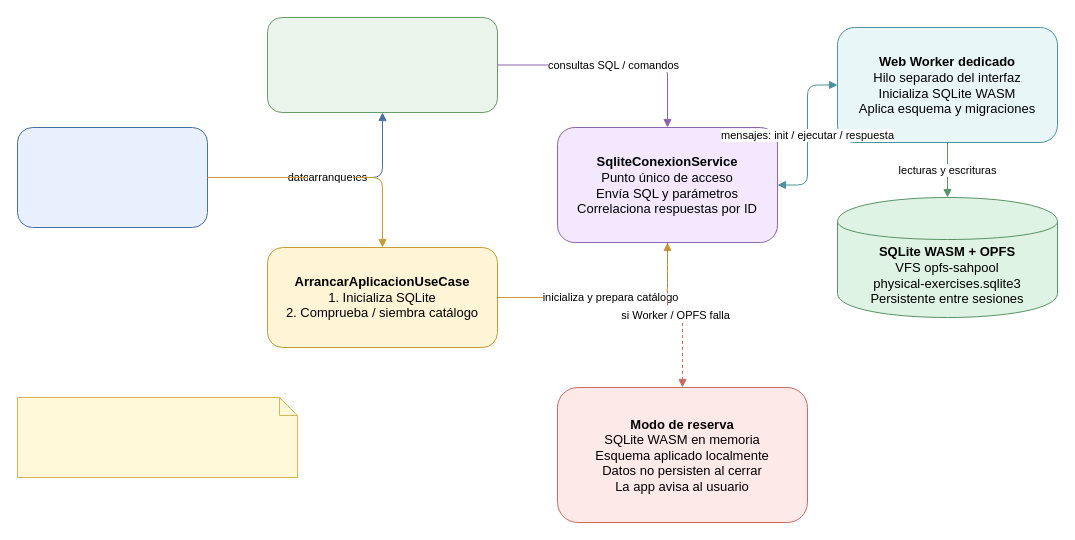
Some shapes in this 1075 by 540 pixel diagram are drawn without their labels. Here are the shapes that lost their labels. From the top down, the box of each, then its label:
(266, 16, 498, 112): Adaptadores SQLite Ejercicio · Categoría Planificación · Progreso · Ajustes
(16, 126, 208, 228): Aplicación Angular AppInitializer Pantallas y casos de uso
(16, 396, 298, 478): No hay servidor SQL remoto La base de datos se ejecuta y guarda en el navegador.
